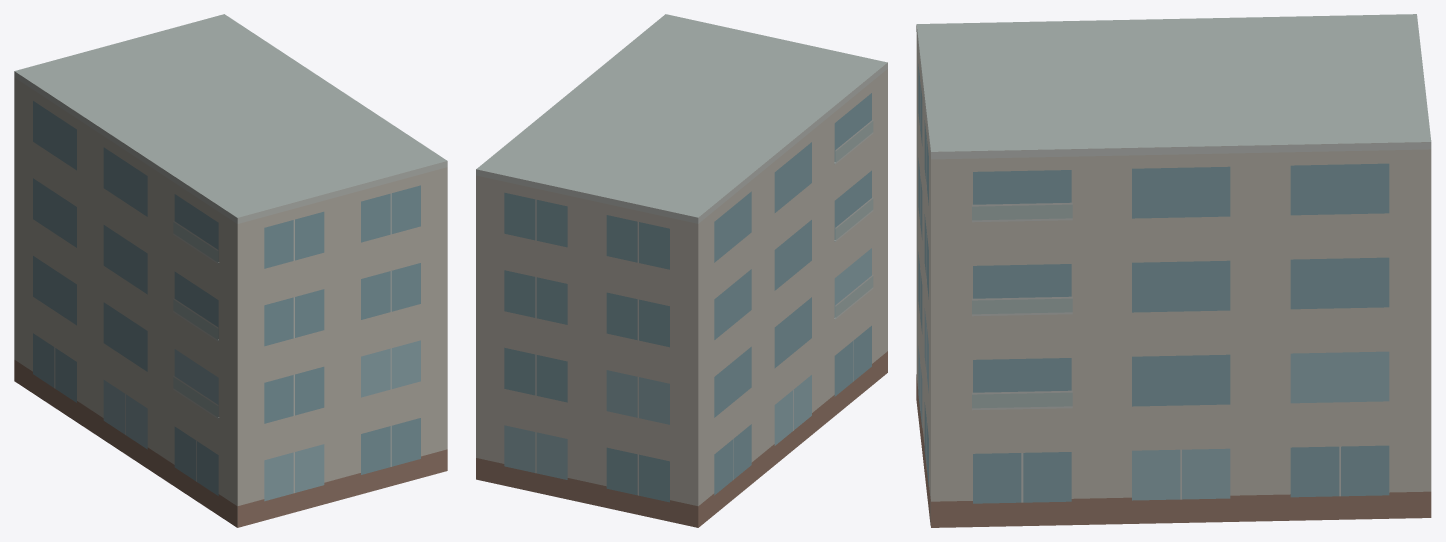
File: residential-d7d2fa70-78ea-4ea9-a853-75fb17678e35.glb
The picture shows the model from 3 angles, left to right: view 1: azimuth 30°, elevation 25°; view 2: azimuth 150°, elevation 25°; view 3: azimuth 270°, elevation 25°; orthographic projection. The views are drawn at different scales.
Parts seen in each view (by area): view 1: residential-d7d2fa70-78ea-4ea9-a853-75fb17678e35.tmp; view 2: residential-d7d2fa70-78ea-4ea9-a853-75fb17678e35.tmp; view 3: residential-d7d2fa70-78ea-4ea9-a853-75fb17678e35.tmp.
Boxes of the visible parts, x1,y1,x2,y2 form: residential-d7d2fa70-78ea-4ea9-a853-75fb17678e35.tmp: (14, 14, 447, 527); residential-d7d2fa70-78ea-4ea9-a853-75fb17678e35.tmp: (476, 14, 887, 527); residential-d7d2fa70-78ea-4ea9-a853-75fb17678e35.tmp: (916, 14, 1431, 527).
Bounding box in the file's own units: 9.61 × 12.2 × 15.15.
